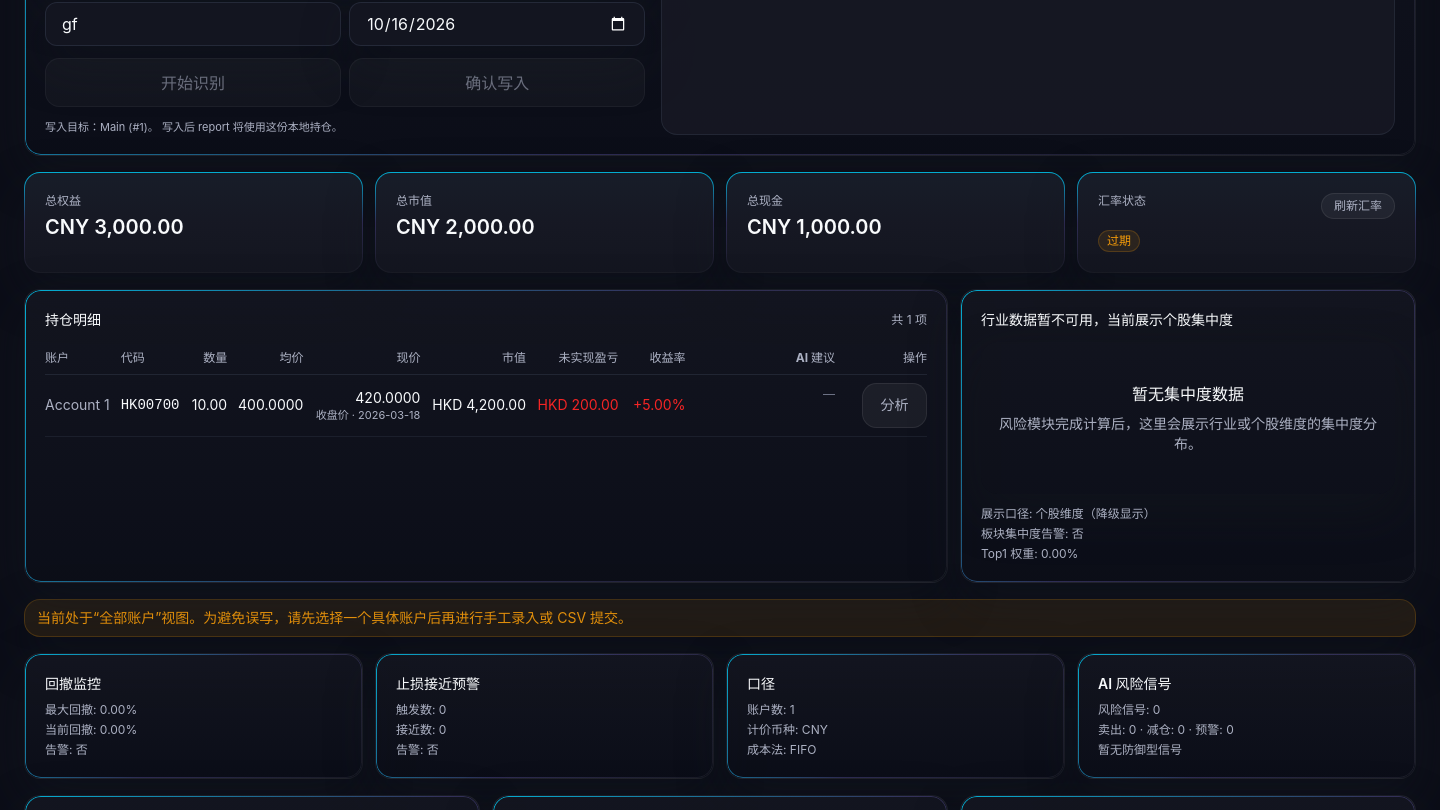
Scenario: PortfolioPage FX refresh › submits manual analysis for a held position without exposing portfolio details in the UI call
The image size is (1440, 810).
(page scrolled)
Expected: the text "HK00700" is shown, [121,397,179,413]
Click the button "分析": click(894, 406) [862,383,927,428]
(page scrolled)
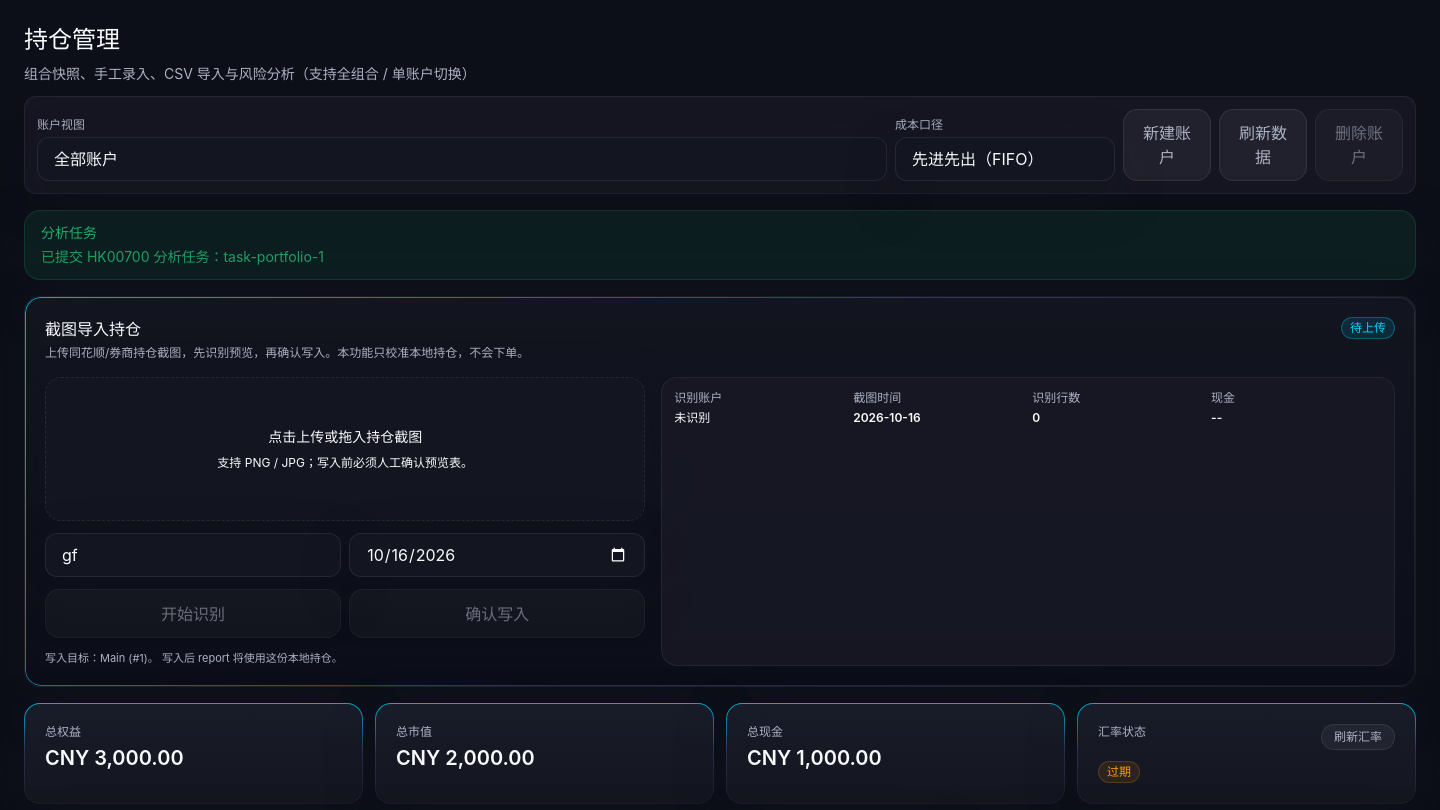
Result: the text "已提交 HK00700 分析任务：task-portfolio-1" is shown at [41,247,324,267]
